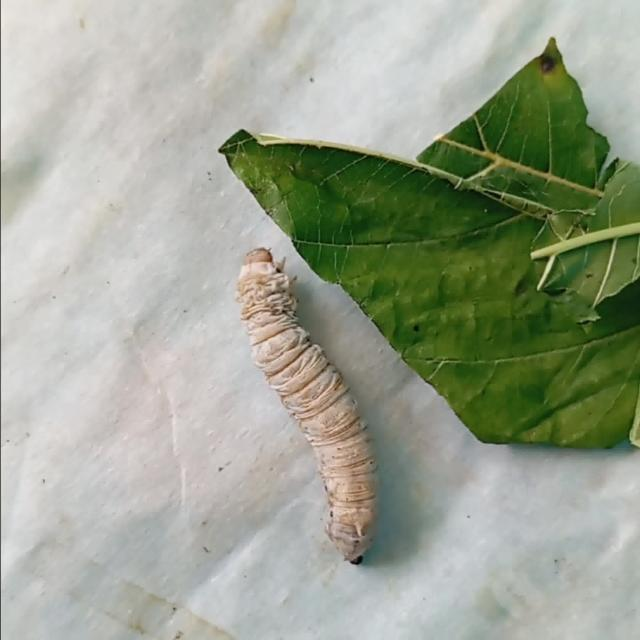Grasserie: (204, 227, 434, 577)
